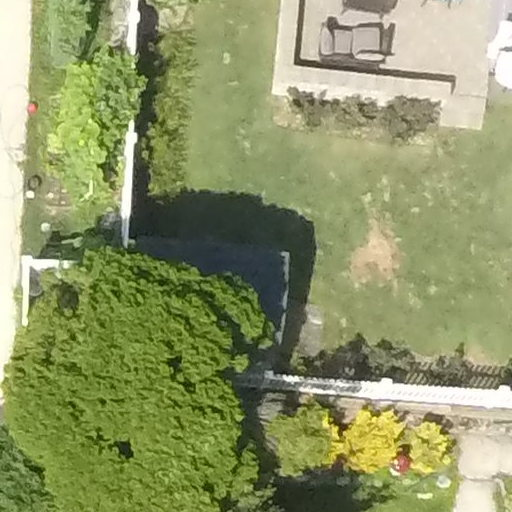chair: (318, 21, 400, 69)
container: (25, 172, 43, 193), (25, 100, 38, 114)
fence: (230, 356, 512, 428), (118, 6, 150, 259)
